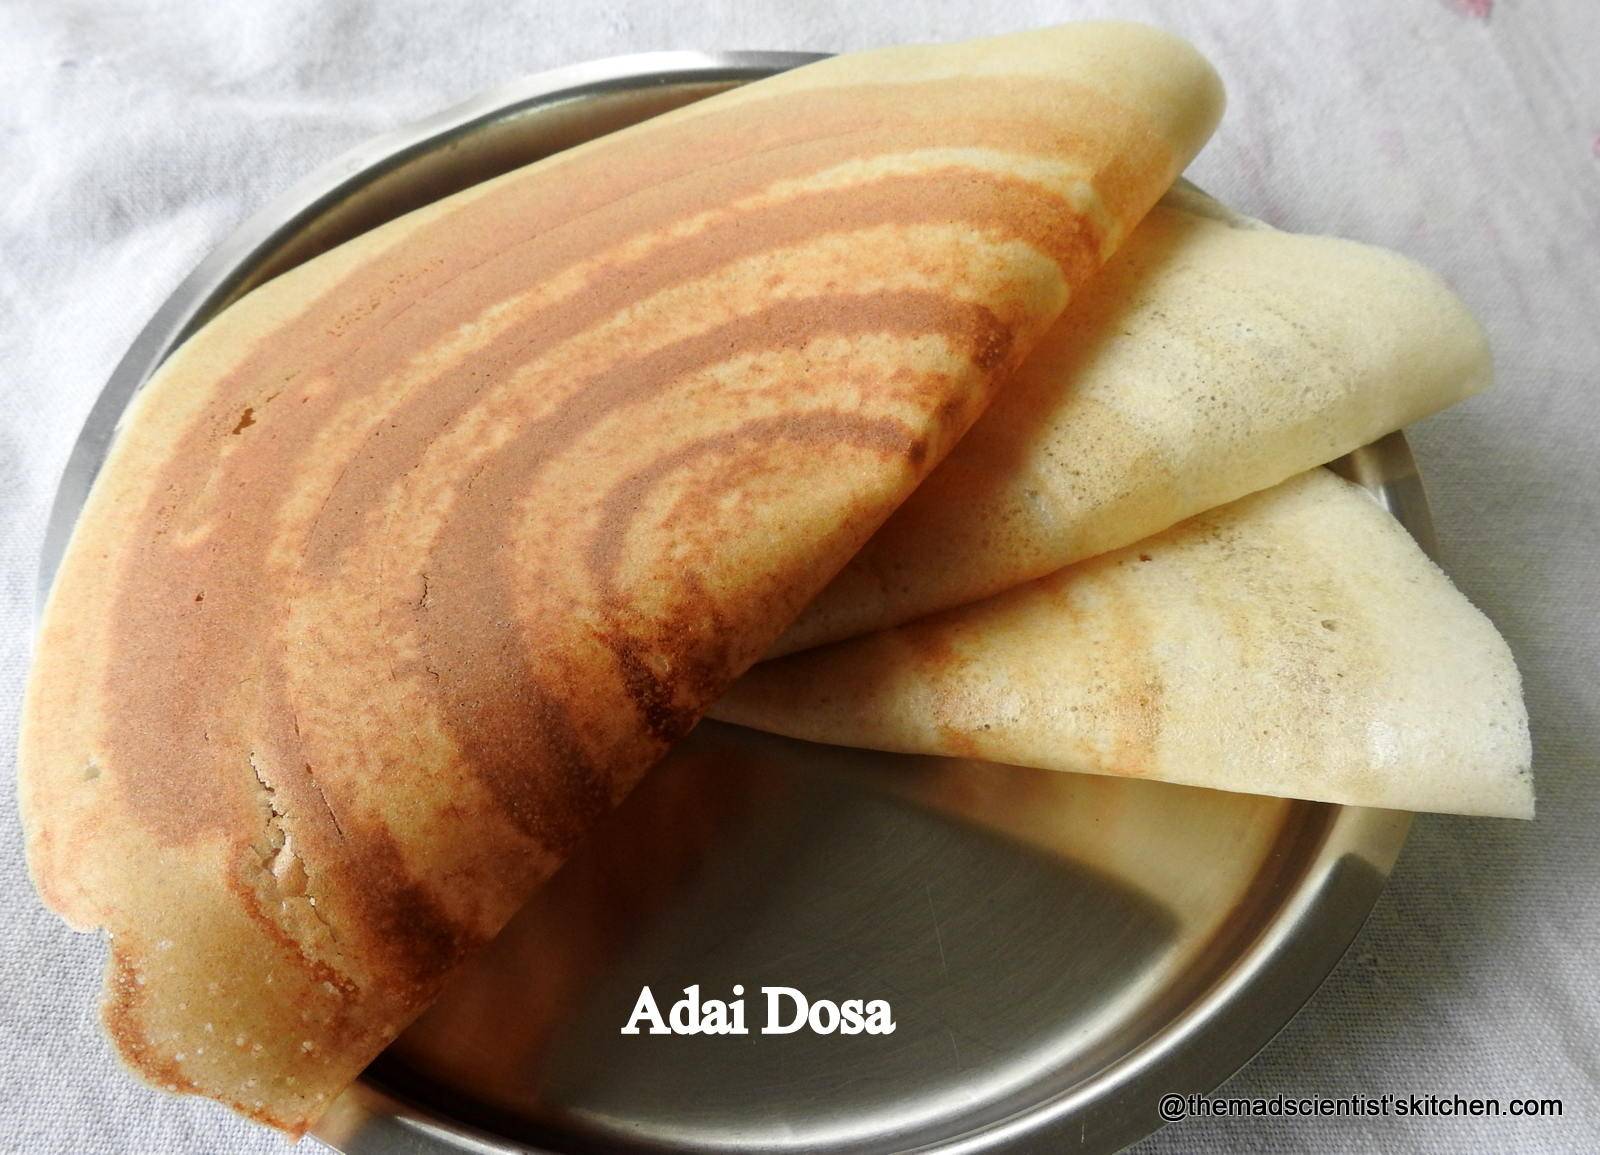dosa: (20, 46, 1535, 1123)
